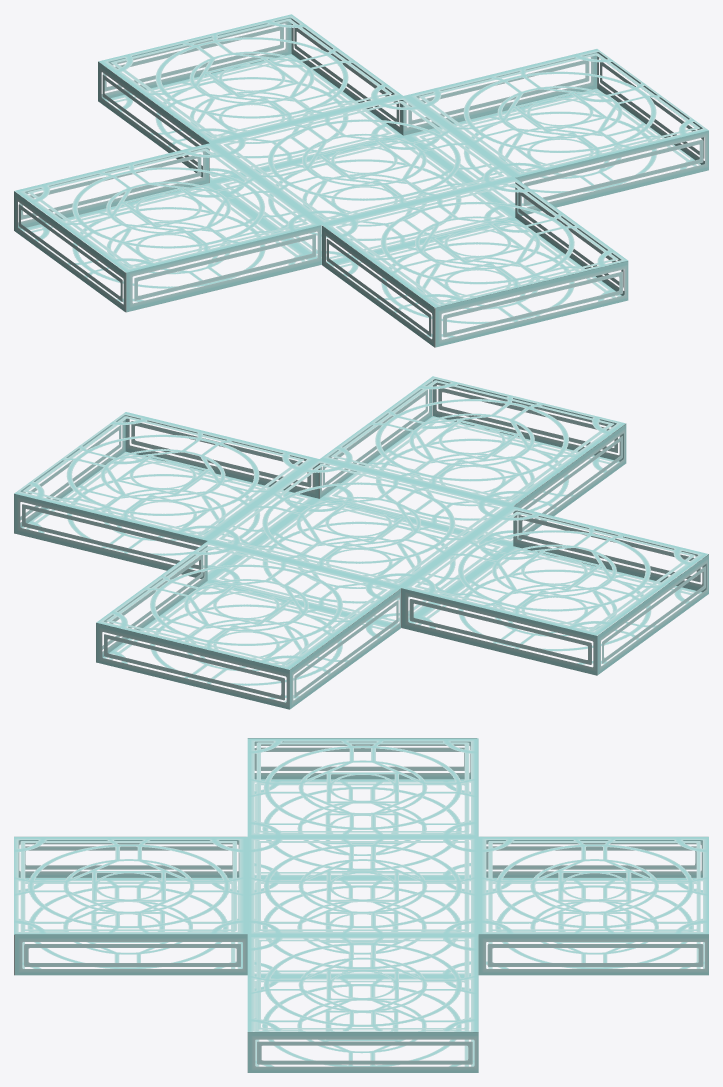
The model's file is Plat_Plus.obj.
The picture shows the model from 3 angles, top to bottom: view 1: azimuth 30°, elevation 25°; view 2: azimuth 150°, elevation 25°; view 3: azimuth 270°, elevation 25°; orthographic projection. The views are drawn at different scales.
Visible parts, largest first — view 1: pCube21; view 2: pCube21; view 3: pCube21.
Boxes of the visible parts, x1,y1,x2,y2 form: pCube21: (14, 14, 708, 347); pCube21: (14, 376, 708, 709); pCube21: (14, 738, 708, 1072).
Size of the model in its own units: 15 by 0.978 by 15.
